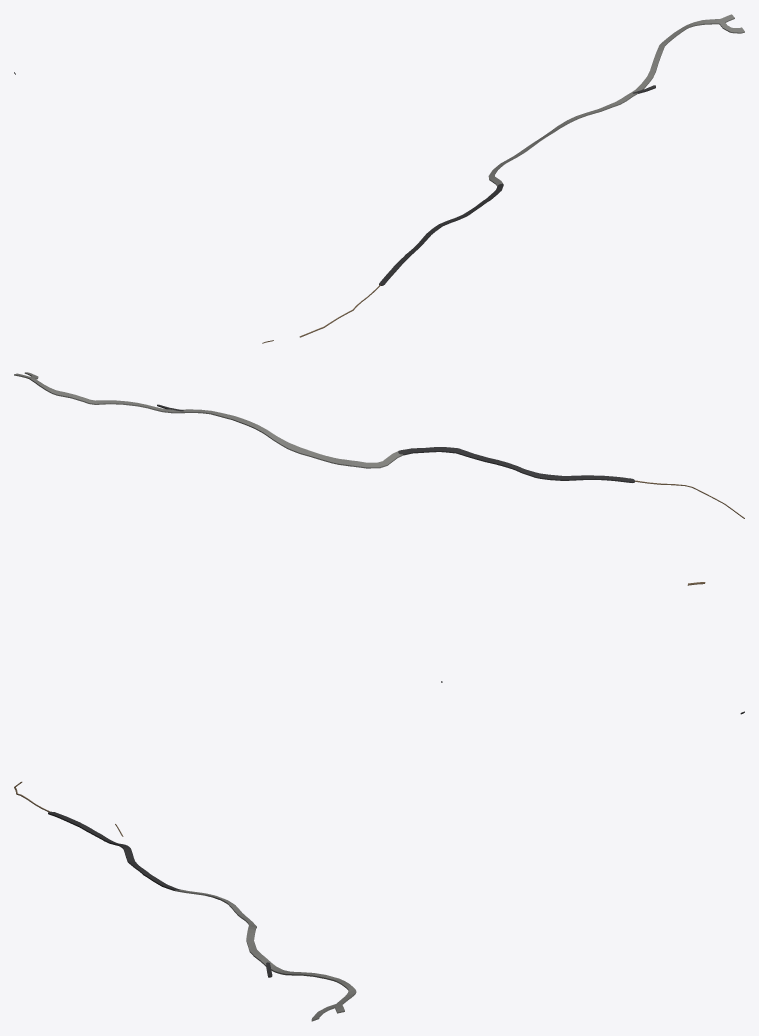
The picture shows the model from 3 angles, top to bottom: view 1: azimuth 30°, elevation 25°; view 2: azimuth 150°, elevation 25°; view 3: azimuth 270°, elevation 25°; orthographic projection. The views are drawn at different scales.
Bounding box in the file's own units: 664 × 147 × 593.
